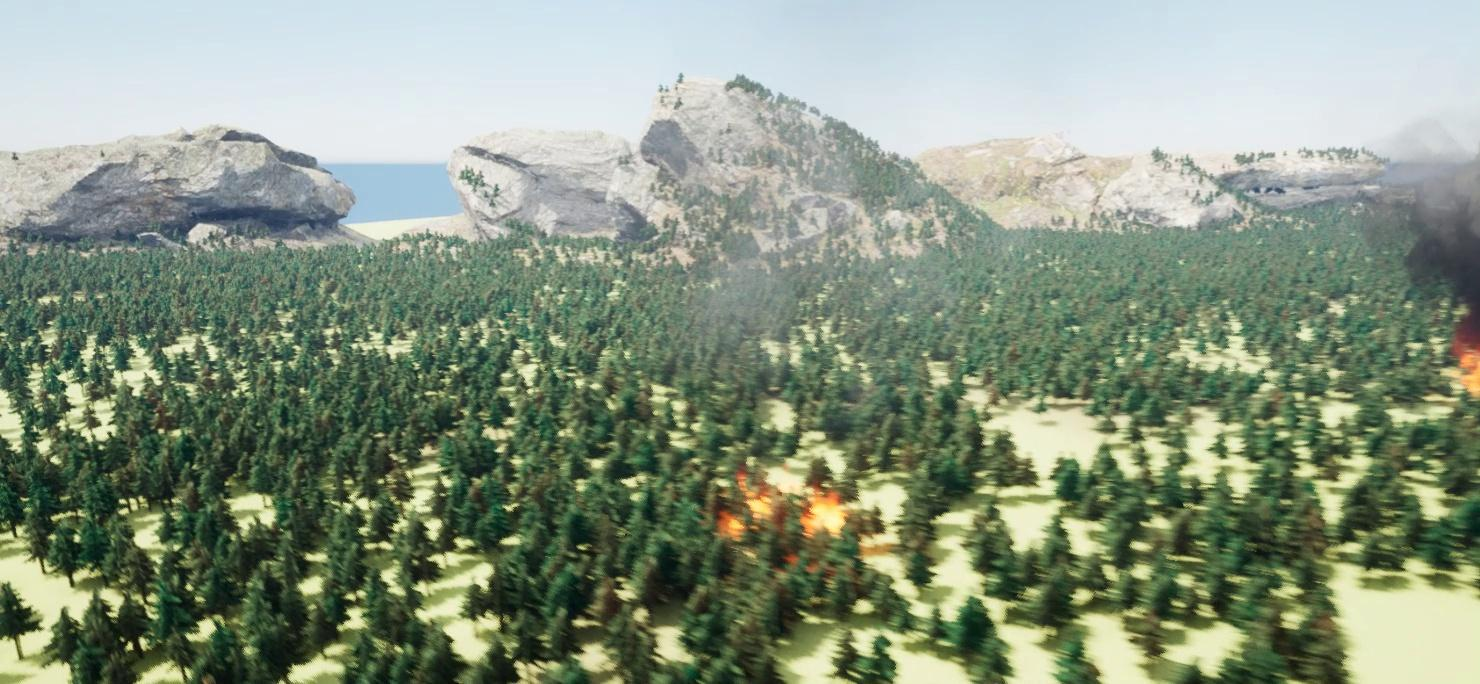fire: (718, 465, 872, 576), (1448, 330, 1479, 392)
smoke: (683, 115, 860, 363), (1363, 104, 1479, 320)
